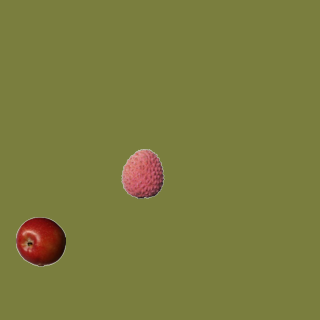Apple Braeburn: (15, 216, 65, 266)
Lychee: (117, 148, 167, 198)
